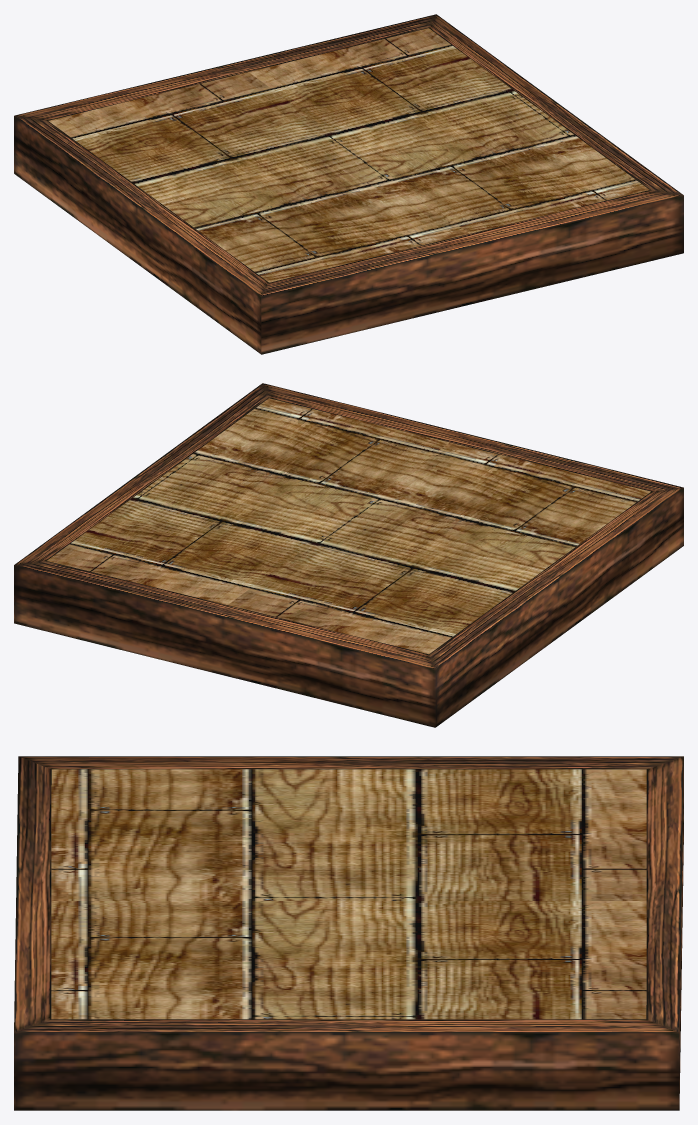
The model's file is LAKETOWN_WAREHOUSE1_ANIM_WH1_FALLPLAT_3939__AI.fbx.
3 renders of one model, top to bottom at view 1: azimuth 30°, elevation 25°; view 2: azimuth 150°, elevation 25°; view 3: azimuth 270°, elevation 25°, orthographic. The views are drawn at different scales.
Visible parts, largest first — view 1: LAKETOWN_WAREHOUSE1_ANIM_WH1_FALLPLAT_3939__AI; view 2: LAKETOWN_WAREHOUSE1_ANIM_WH1_FALLPLAT_3939__AI; view 3: LAKETOWN_WAREHOUSE1_ANIM_WH1_FALLPLAT_3939__AI.
Part boxes in pixels (bbox=[...]): LAKETOWN_WAREHOUSE1_ANIM_WH1_FALLPLAT_3939__AI: bbox=[14, 14, 683, 354]; LAKETOWN_WAREHOUSE1_ANIM_WH1_FALLPLAT_3939__AI: bbox=[14, 383, 683, 727]; LAKETOWN_WAREHOUSE1_ANIM_WH1_FALLPLAT_3939__AI: bbox=[14, 756, 683, 1110].
Size of the model in its own units: 26020 by 3428 by 26659.
Materials: 2 (2 with a texture image).
